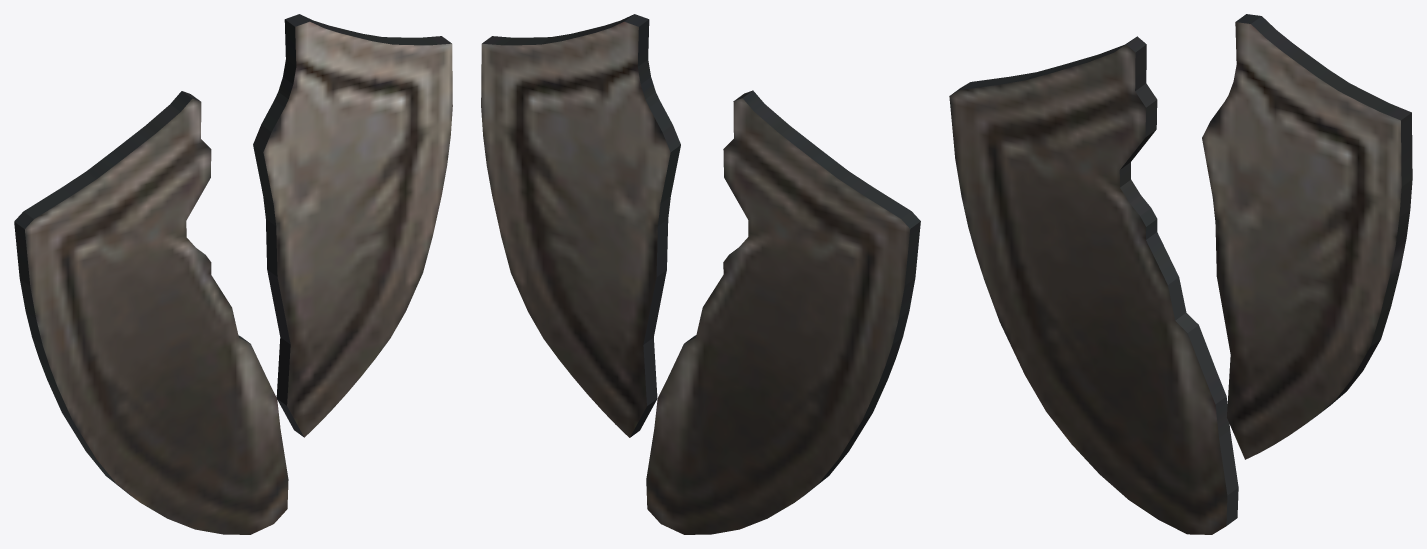
File: Durability.glb
3 views of the same model, side by side, from view 1: azimuth 30°, elevation 25°; view 2: azimuth 150°, elevation 25°; view 3: azimuth 330°, elevation 25° (orthographic). The views are drawn at different scales.
Visible parts, largest first — view 1: Circle; view 2: Circle; view 3: Circle.
Boxes of the visible parts, x1,y1,x2,y2 form: Circle: (14, 14, 452, 534); Circle: (481, 14, 920, 534); Circle: (949, 14, 1412, 534).
Bounding box in the file's own units: 1.66 × 1.85 × 0.0731.
2 materials, 2 textured.
